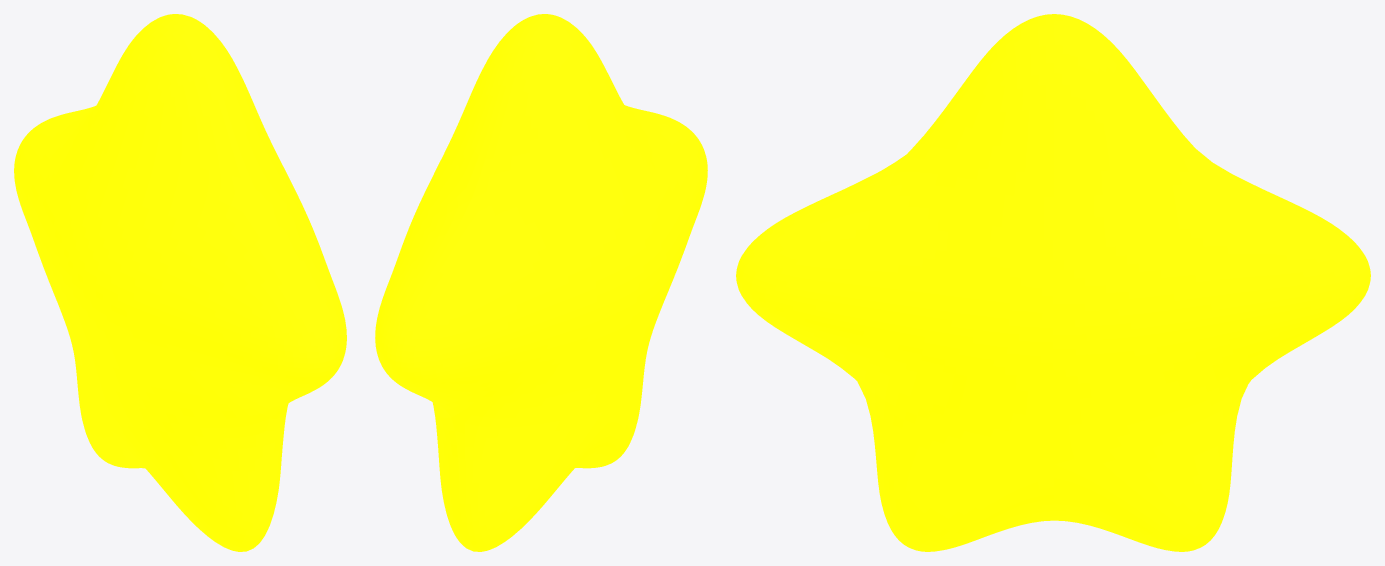
The model's file is cute_star_5888.glb.
3 renders of one model, left to right at view 1: azimuth 30°, elevation 25°; view 2: azimuth 150°, elevation 25°; view 3: azimuth 270°, elevation 25°, orthographic. The views are drawn at different scales.
Parts seen in each view (by area): view 1: cute_star_5888; view 2: cute_star_5888; view 3: cute_star_5888.
Part boxes in pixels (box(x1,y1,x2,y2)): cute_star_5888: box(14, 14, 346, 551); cute_star_5888: box(375, 14, 707, 551); cute_star_5888: box(736, 14, 1370, 551).
Size of the model in its own units: 1.12 by 2.4 by 2.6.
